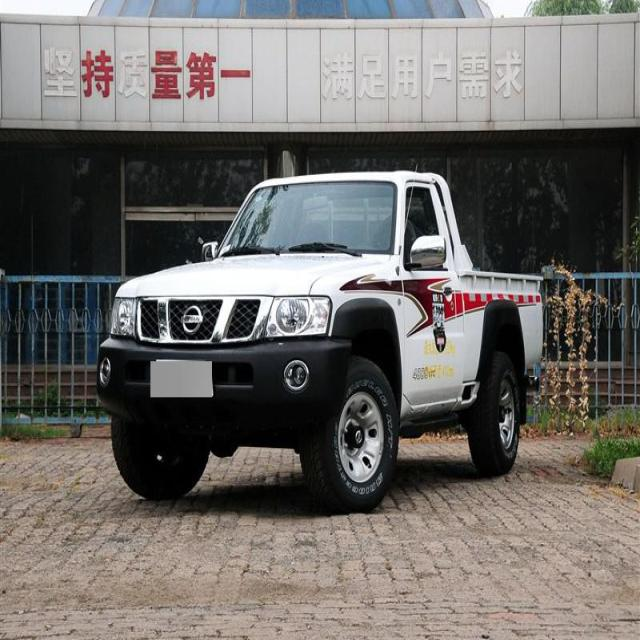front_bumper: (92, 338, 346, 426)
front_glass: (218, 177, 398, 255)
front_left_side_door: (392, 176, 470, 413)
front_left_side_light: (260, 296, 333, 340)
front_left_side_mirror: (406, 233, 449, 270)
front_right_side_light: (110, 290, 141, 336)
front_right_side_mirror: (198, 241, 218, 262)
wheel: (306, 361, 393, 505), (110, 419, 210, 498), (470, 358, 514, 469)
